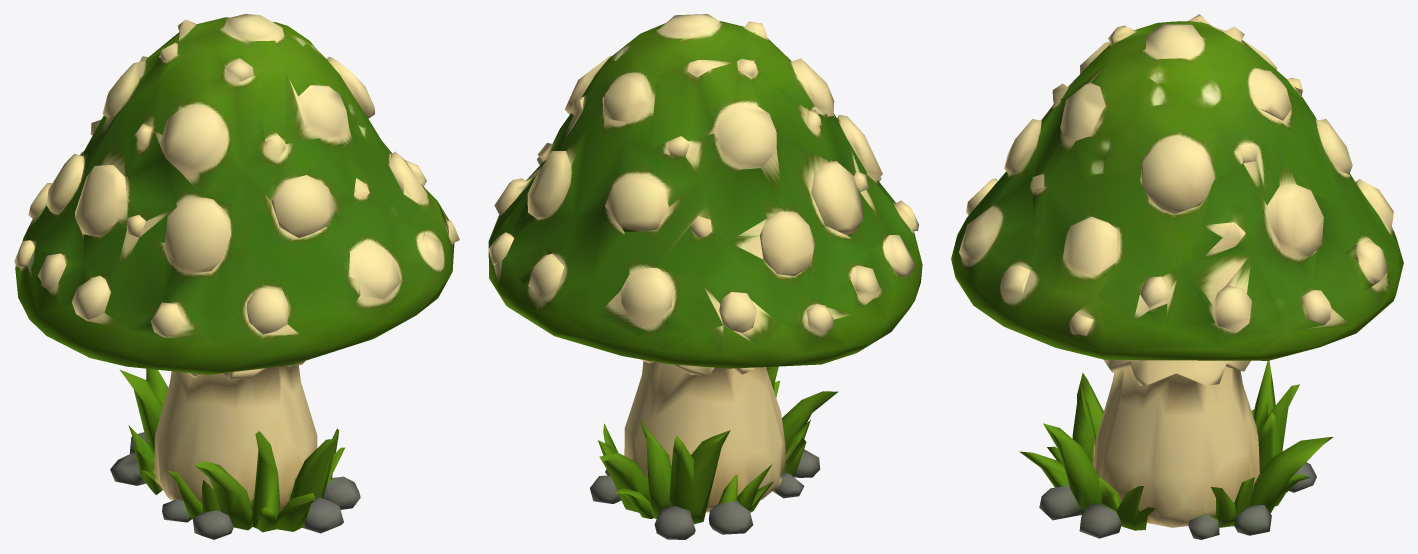
The model's file is shroom_green.glb.
The picture shows the model from 3 angles, left to right: view 1: azimuth 30°, elevation 25°; view 2: azimuth 150°, elevation 25°; view 3: azimuth 270°, elevation 25°; orthographic projection. The views are drawn at different scales.
Visible parts, largest first — view 1: tripo_node_7c0b42de-13fe-4886-a690-863d87efb3e1; view 2: tripo_node_7c0b42de-13fe-4886-a690-863d87efb3e1; view 3: tripo_node_7c0b42de-13fe-4886-a690-863d87efb3e1.
Part boxes in pixels (left/top/right/bottom): tripo_node_7c0b42de-13fe-4886-a690-863d87efb3e1: left=14, top=14, right=459, bottom=539; tripo_node_7c0b42de-13fe-4886-a690-863d87efb3e1: left=488, top=14, right=922, bottom=539; tripo_node_7c0b42de-13fe-4886-a690-863d87efb3e1: left=951, top=14, right=1403, bottom=539.
Bounding box in the file's own units: 1.27 × 1.5 × 1.29.
Materials: 1 (1 with a texture image).
